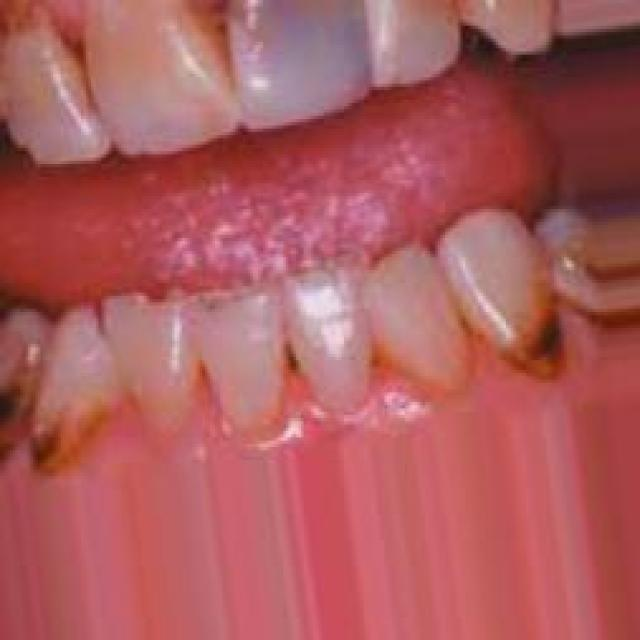caries: (488, 234, 570, 388)
